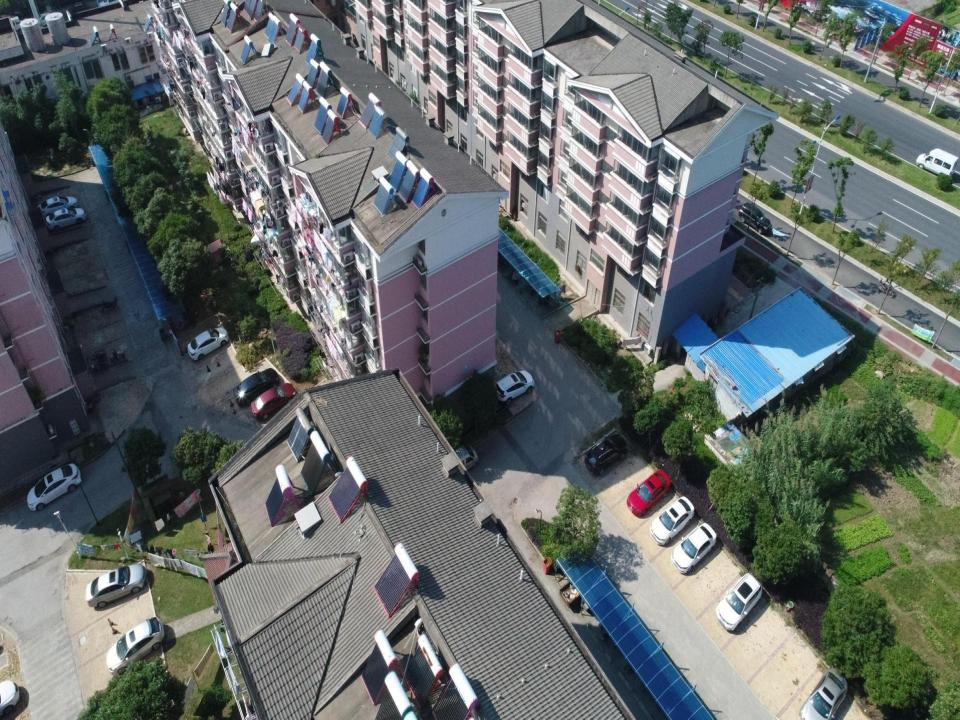car: (106, 614, 165, 676), (85, 562, 148, 608), (716, 572, 763, 632), (26, 462, 81, 512), (798, 666, 848, 720), (670, 523, 717, 574), (650, 495, 696, 546), (626, 468, 671, 518), (584, 434, 628, 476), (233, 368, 279, 406), (251, 383, 296, 420), (494, 369, 534, 406), (187, 327, 229, 360), (44, 206, 86, 233), (738, 202, 771, 233), (38, 194, 78, 216), (0, 678, 20, 717)
van: (916, 148, 958, 180), (446, 444, 480, 476)
